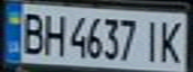3: (103, 15, 121, 61)
4: (66, 12, 87, 59)
6: (84, 14, 106, 61)
7: (118, 16, 142, 62)
B: (15, 8, 48, 55)
H: (39, 10, 69, 56)
I: (139, 17, 163, 63)
K: (157, 17, 187, 64)
